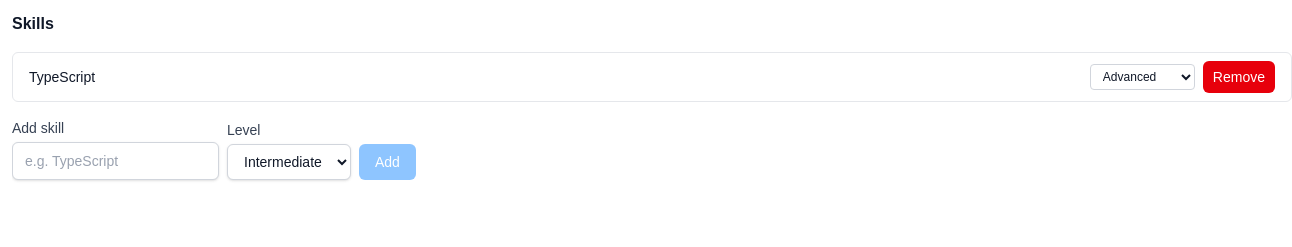
it: Fit-score update flow — Part 1: add a skill › POSTs the new skill and adds it to the skills list
The image size is (1292, 247).
Type "Rust" into the field with placeholder "e.g. TypeScript" at (116, 161), box [12, 142, 219, 180]
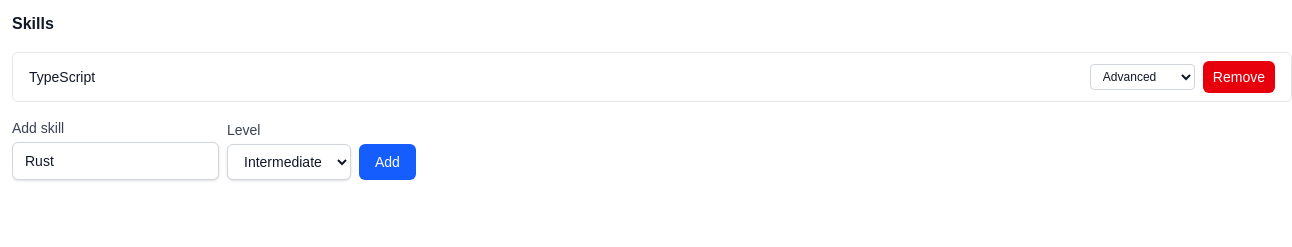
Click the button "Add" at (387, 162), box [359, 144, 416, 180]
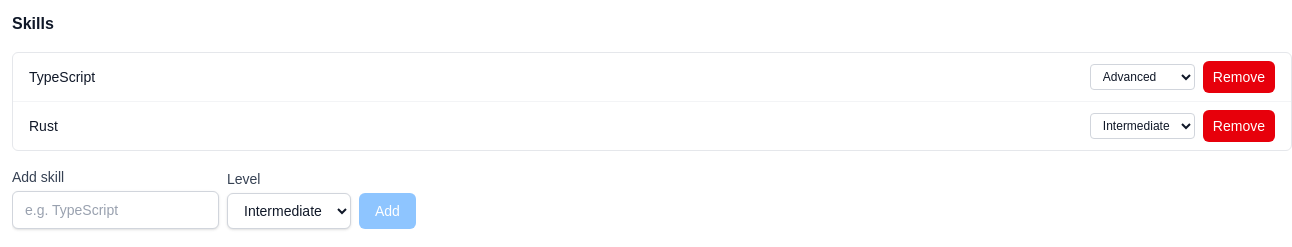
Expected: the text "TypeScript" is shown, [29, 67, 95, 87]
Expected: the text "Rust" is shown, [29, 116, 58, 136]
